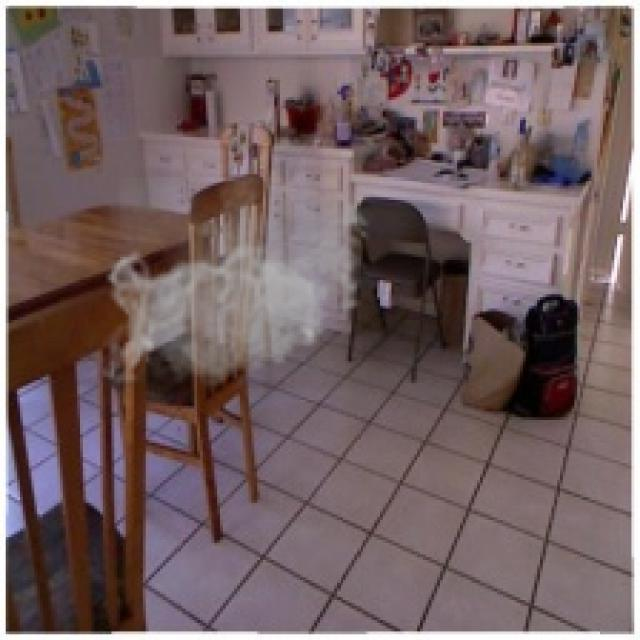Smoke: (102, 177, 378, 394)
